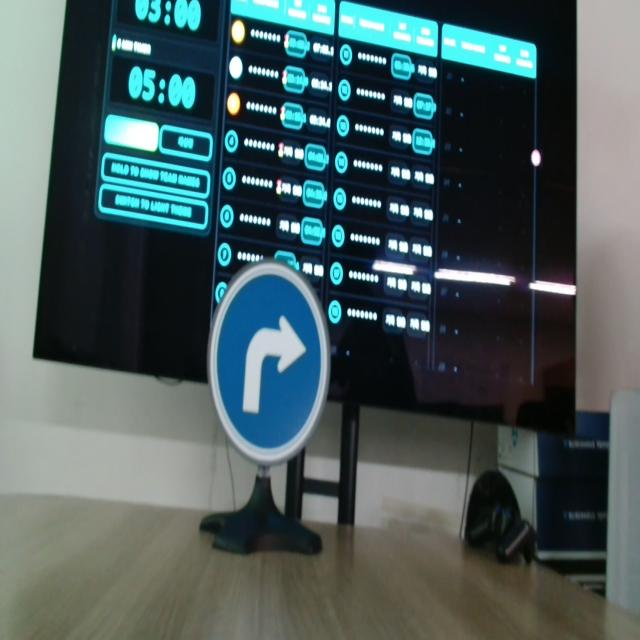right_dierection: (202, 252, 332, 468)
